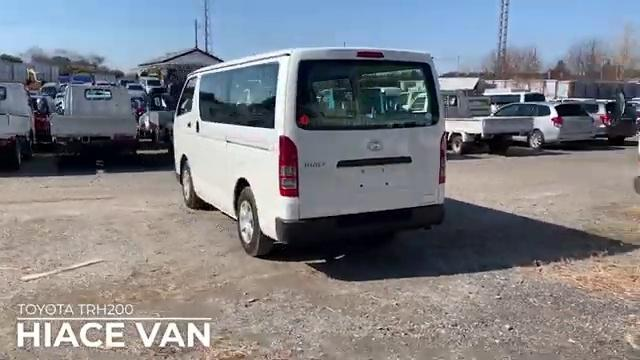van: (169, 46, 457, 255)
